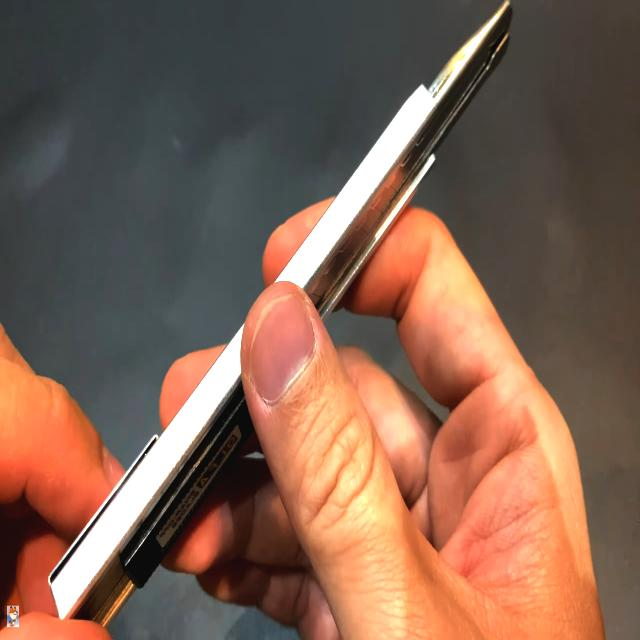cutter: (1, 0, 596, 640)
